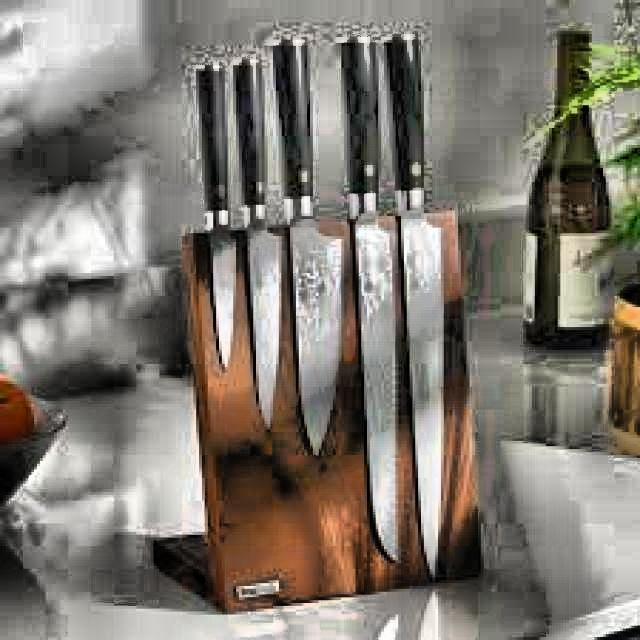knife: (326, 34, 414, 569), (384, 21, 456, 584), (266, 34, 352, 470), (224, 54, 285, 424), (189, 57, 238, 378)
